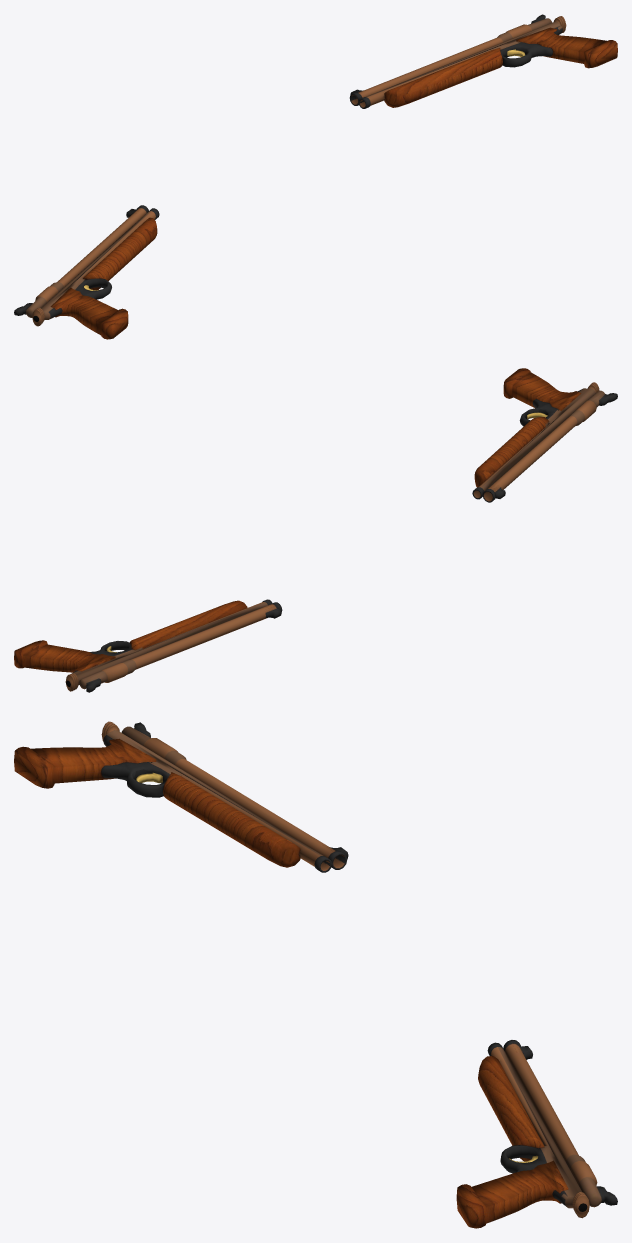
The model's file is mesh_com_duckshooter_guns.glb.
The picture shows the model from 3 angles, top to bottom: view 1: azimuth 30°, elevation 25°; view 2: azimuth 210°, elevation 25°; view 3: azimuth 270°, elevation 25°; orthographic projection. The views are drawn at different scales.
Visible parts, largest first — view 1: mesh_com_ds_gun2, mesh_com_ds_gun1; view 2: mesh_com_ds_gun2, mesh_com_ds_gun1; view 3: mesh_com_ds_gun1, mesh_com_ds_gun2.
Boxes of the visible parts, x1=… form: mesh_com_ds_gun2: x1=349, y1=14, x2=617, y2=108; mesh_com_ds_gun1: x1=14, y1=205, x2=159, y2=339; mesh_com_ds_gun2: x1=14, y1=599, x2=282, y2=692; mesh_com_ds_gun1: x1=472, y1=368, x2=617, y2=502; mesh_com_ds_gun1: x1=14, y1=721, x2=348, y2=872; mesh_com_ds_gun2: x1=456, y1=1040, x2=617, y2=1228.
Size of the model in its own units: 3.32 by 0.0793 by 1.72.
Materials: 1 (1 with a texture image).
